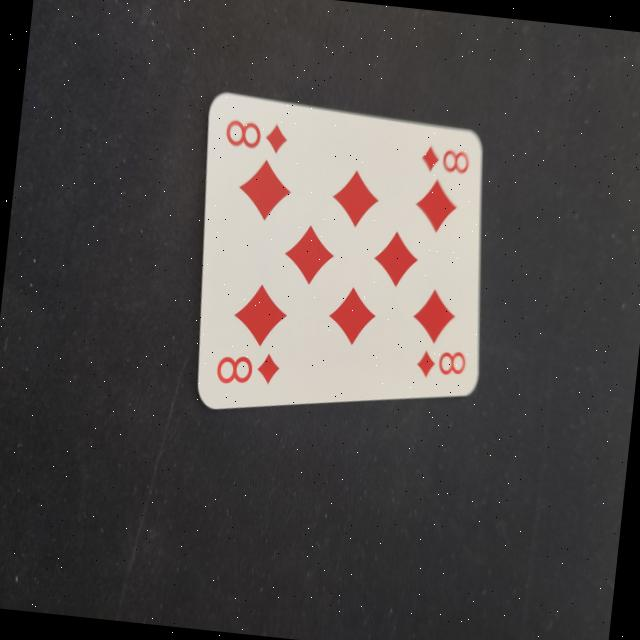8d: (206, 342, 288, 400), (218, 110, 295, 158), (414, 138, 474, 185), (411, 341, 471, 387)
